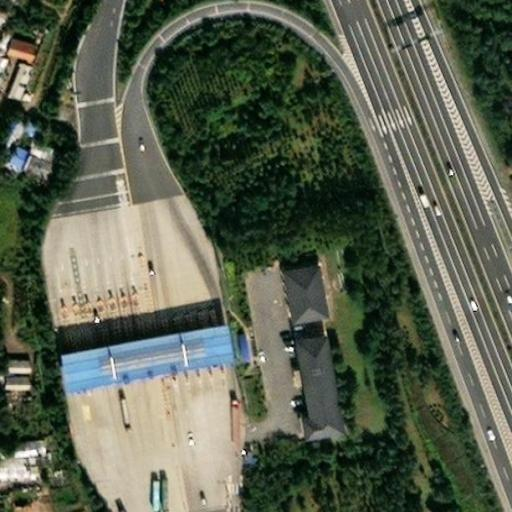building: (43, 310, 219, 374), (280, 321, 330, 425), (270, 250, 315, 308), (0, 103, 32, 158), (3, 55, 34, 101), (13, 130, 48, 169), (0, 430, 27, 465), (229, 327, 251, 361), (0, 346, 20, 376)
